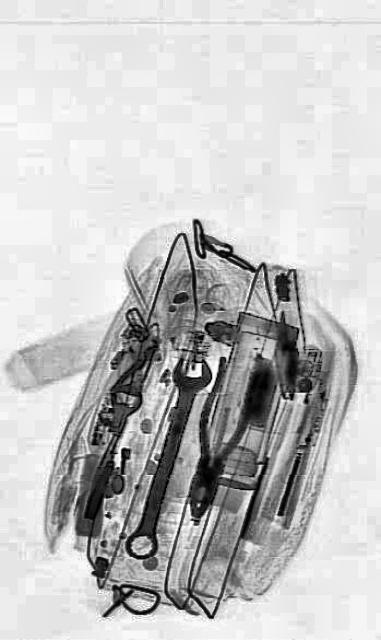Pliers: (172, 345, 262, 533)
Wrench: (118, 342, 214, 570)
